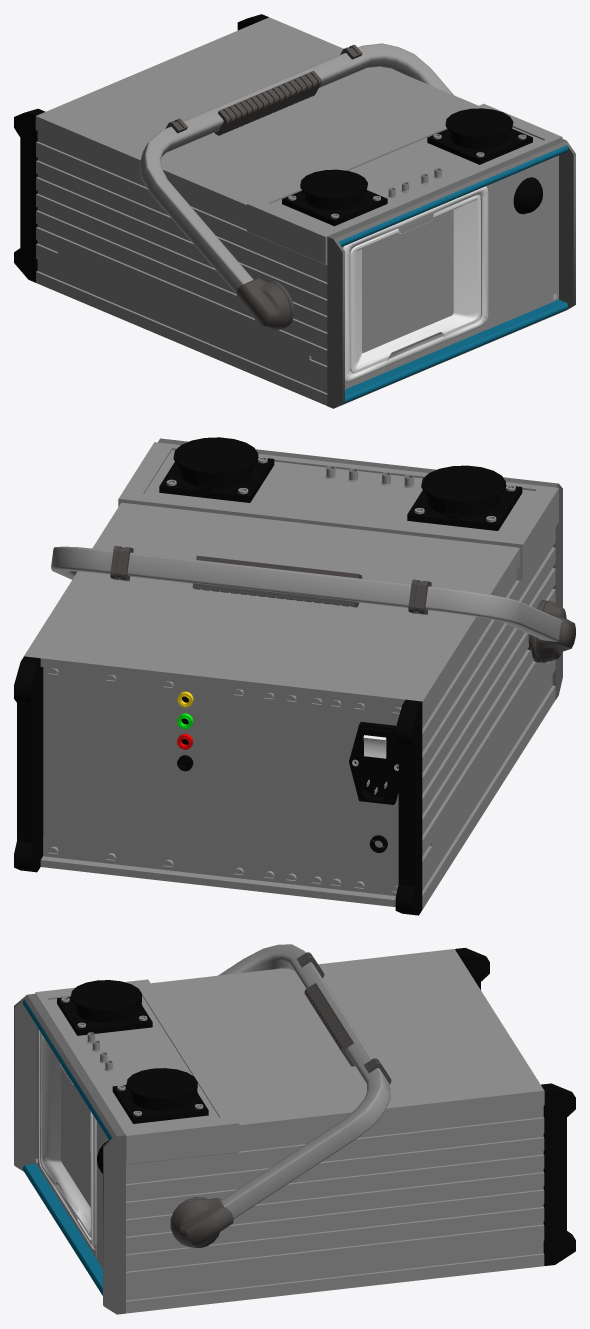
File: jiaoliuceshiyi.obj
The picture shows the model from 3 angles, top to bottom: view 1: azimuth 30°, elevation 25°; view 2: azimuth 150°, elevation 25°; view 3: azimuth 270°, elevation 25°; orthographic projection. The views are drawn at different scales.
Visible parts, largest first — view 1: Box014, Box015, Box042, Object014, Plane001, Object004, Box028, Box030, Box019, Object008, Cylinder054, Cylinder008 (+6 smaller); view 2: Box014, Box018, Box015, Object004, Box016, Box019, Cylinder008, Cylinder054, Box020, Box028, Box032, Box025 (+4 smaller); view 3: Box014, Box015, Box028, Object004, Box042, Box016, Object014, Cylinder054, Cylinder008, Cylinder029, Box030, Box032 (+6 smaller).
Part boxes in pixels (left/top/right/bottom): Box014: left=35, top=17, right=478, bottom=405; Box015: left=247, top=103, right=562, bottom=264; Box042: left=343, top=186, right=488, bottom=382; Object014: left=362, top=209, right=453, bottom=352; Plane001: left=487, top=155, right=558, bottom=329; Object004: left=139, top=43, right=453, bottom=293; Box028: left=327, top=138, right=575, bottom=408; Box030: left=340, top=299, right=568, bottom=405; Box019: left=14, top=108, right=45, bottom=282; Object008: left=214, top=70, right=321, bottom=135; Cylinder054: left=445, top=108, right=513, bottom=149; Cylinder008: left=300, top=169, right=367, bottom=210; Box014: left=24, top=503, right=555, bottom=909; Box018: left=43, top=667, right=398, bottom=895; Box015: left=118, top=442, right=558, bottom=580; Object004: left=51, top=546, right=561, bottom=641; Box016: left=14, top=656, right=43, bottom=872; Box019: left=395, top=699, right=422, bottom=915; Cylinder008: left=421, top=465, right=505, bottom=516; Cylinder054: left=173, top=437, right=258, bottom=488; Box020: left=349, top=721, right=398, bottom=804; Box028: left=158, top=438, right=562, bottom=699; Box032: left=159, top=457, right=274, bottom=502; Box025: left=407, top=485, right=522, bottom=530; Box014: left=96, top=949, right=544, bottom=1313; Box015: left=35, top=979, right=239, bottom=1165; Box028: left=14, top=993, right=125, bottom=1314; Object004: left=218, top=944, right=390, bottom=1218; Box042: left=39, top=1030, right=96, bottom=1249; Box016: left=541, top=1083, right=575, bottom=1265; Object014: left=61, top=1067, right=90, bottom=1207; Cylinder054: left=126, top=1068, right=197, bottom=1110; Cylinder008: left=71, top=980, right=141, bottom=1022; Cylinder029: left=170, top=1197, right=233, bottom=1247; Box030: left=22, top=1164, right=102, bottom=1295; Box032: left=112, top=1085, right=208, bottom=1123.
Size of the model in its own units: 0.9172 by 0.4504 by 1.09.
